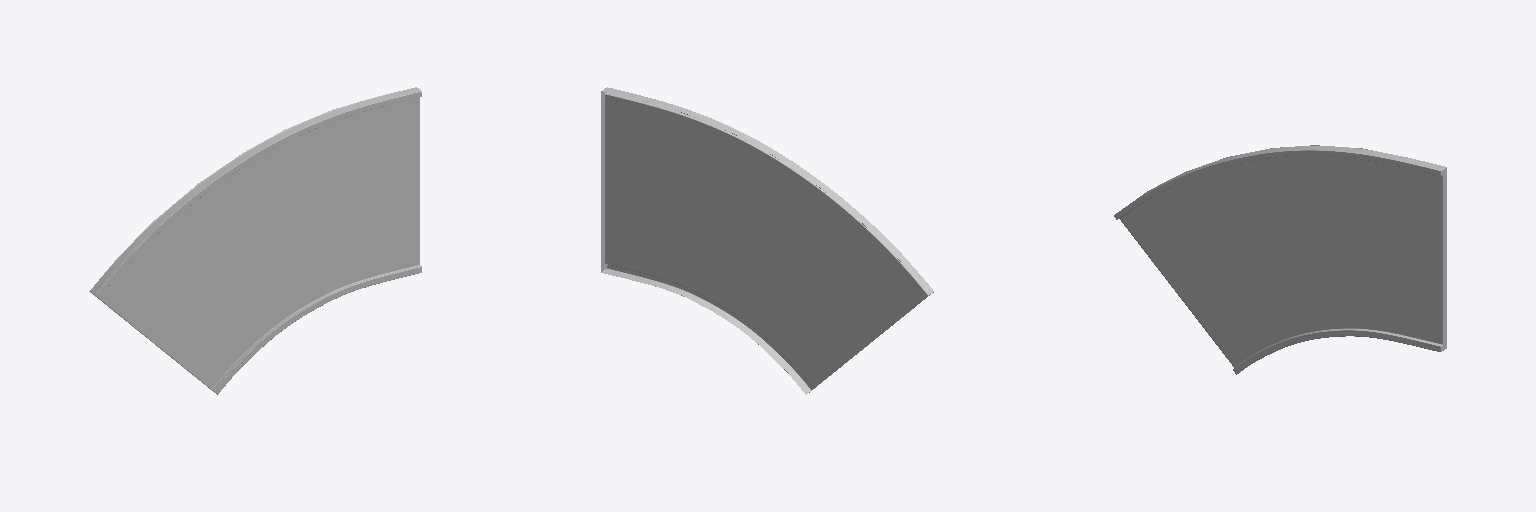
The model's file is road45.obj.
3 renders of one model, left to right at view 1: azimuth 30°, elevation 25°; view 2: azimuth 150°, elevation 25°; view 3: azimuth 330°, elevation 25°, orthographic.
Parts seen in each view (by area): view 1: Road_Section_45DegreeCurve; view 2: Road_Section_45DegreeCurve; view 3: Road_Section_45DegreeCurve.
Part boxes in pixels (bbox=[...]): Road_Section_45DegreeCurve: bbox=[89, 87, 421, 394]; Road_Section_45DegreeCurve: bbox=[601, 87, 933, 394]; Road_Section_45DegreeCurve: bbox=[1114, 145, 1446, 374].
Bounding box in the file's own units: 1364 × 1010 × 40.56.